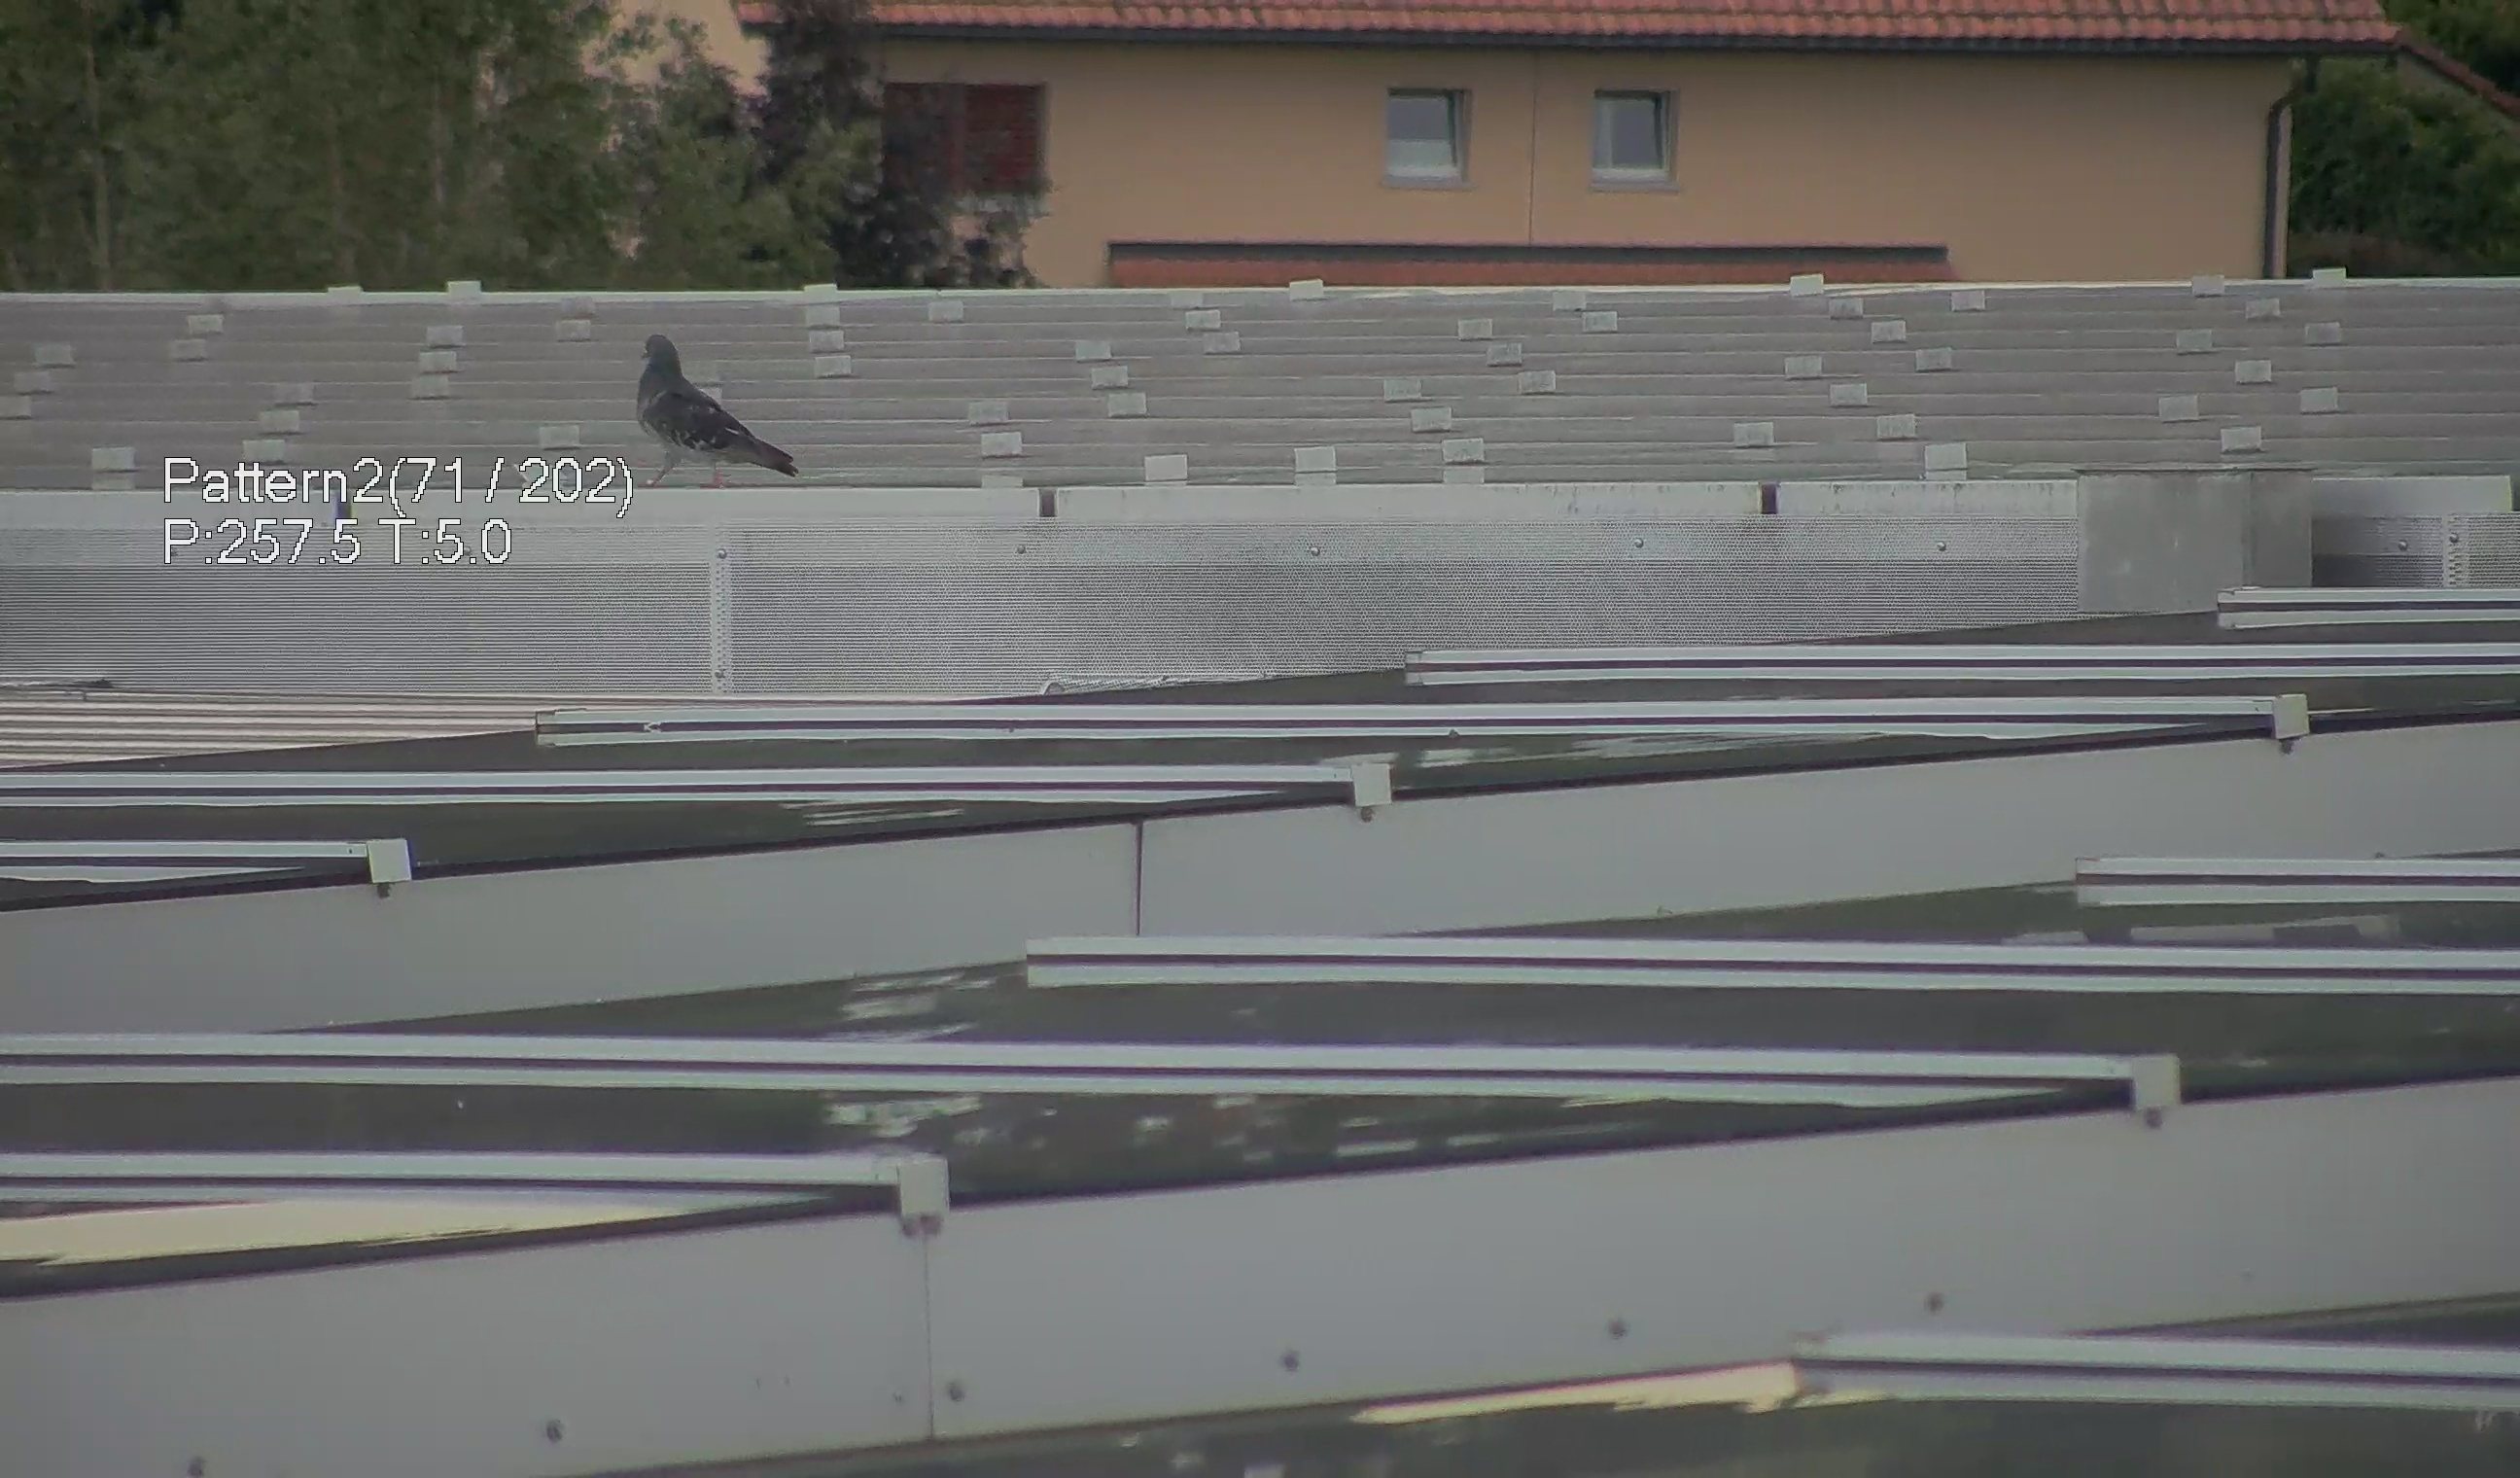Pigeon: (614, 322, 781, 484)
